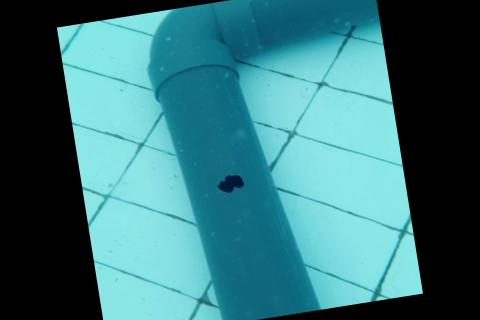kebocoran: (215, 171, 247, 193)
